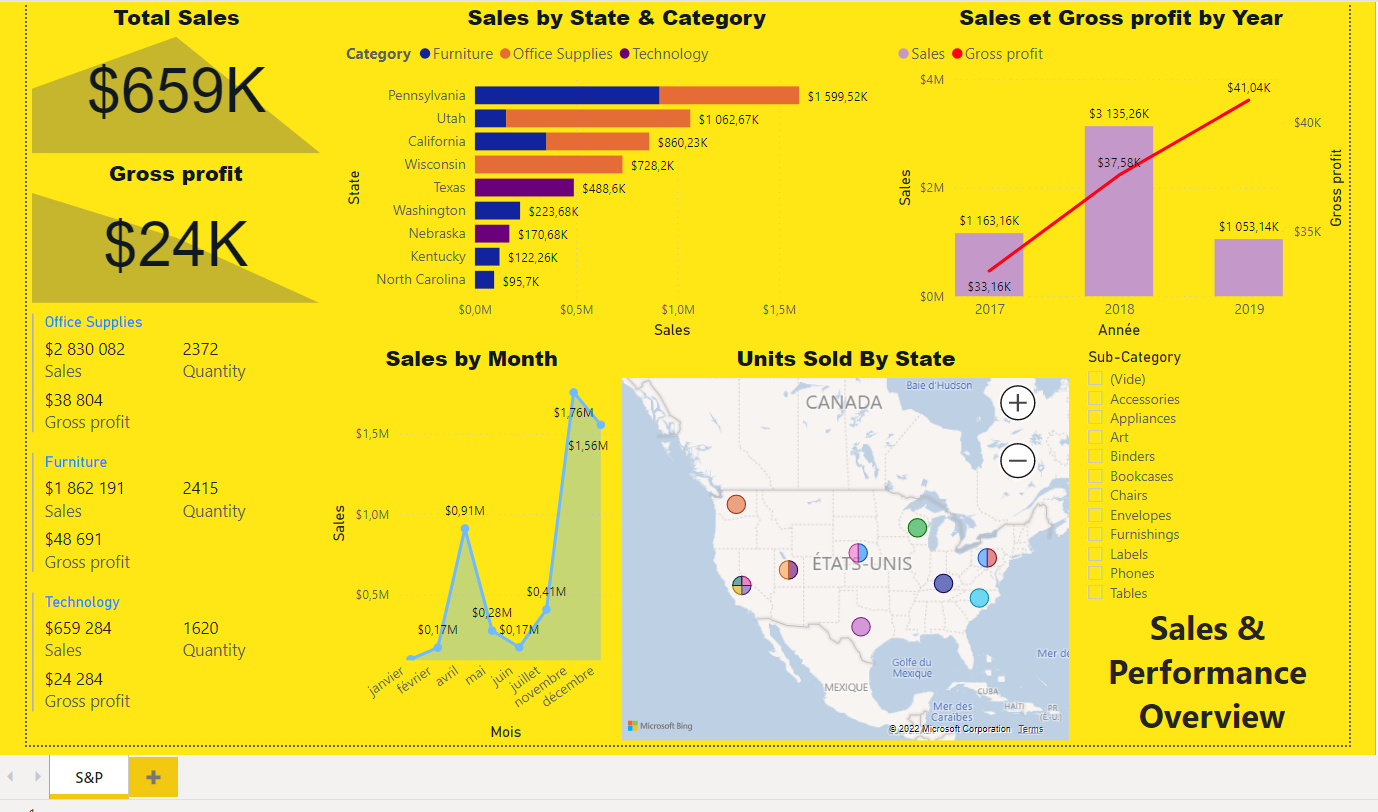

What the dashboard file says about the page in this screenshot:
{"tool":"powerbi","page":{"name":"S&P","canvas":[1280,720],"ordinal":0},"visuals":[{"type":"kpi","title":"Total Sales","fields":{"TrendLine":["product_details.Category"],"Indicator":["Sum(sales_details.Sales)"]},"box":[0,0,289.2,151.3],"z":0},{"type":"kpi","title":"Gross profit","fields":{"TrendLine":["product_details.Category"],"Indicator":["Sum(sales_details.Gross profit)"]},"box":[0,151.3,288,145.2],"z":1},{"type":"barChart","title":"Sales by State & Category","fields":{"Category":["Place_details.State"],"Y":["Sum(sales_details.Sales)"],"Series":["product_details.Category"]},"box":[303.7,0,533.6,330.4],"z":2},{"type":"lineStackedColumnComboChart","title":"Sales et Gross profit by Year","fields":{"Category":["order_details.Order Date.Variation.Hiérarchie de dates.Année"],"Y":["Sum(sales_details.Sales)"],"Y2":["Sum(sales_details.Gross profit)"]},"box":[837.4,0,442.9,330.4],"z":3},{"type":"areaChart","title":"Sales by Month","fields":{"Category":["order_details.Order Date.Variation.Hiérarchie de dates.Mois"],"Y":["Sum(sales_details.Sales)"]},"box":[289.2,330.4,281.9,389.6],"z":4},{"type":"multiRowCard","fields":{"Values":["Sum(sales_details.Sales)","Sum(sales_details.Quantity)","Sum(sales_details.Gross profit)","product_details.Category"]},"box":[0,296.5,289.2,423.5],"z":5},{"type":"map","title":"Units Sold By State","fields":{"Category":["Place_details.State"],"Series":["sales_details.Quantity"]},"box":[571.2,330.4,442.9,389.6],"z":6},{"type":"slicer","fields":{"Values":["product_details.Sub-Category"]},"box":[1014.1,330.4,266.2,261.4],"z":7},{"type":"textbox","box":[1014.1,578.4,266.2,141.6],"z":8}]}

Visuals, with their boxes on the page's 1280x720 design canvas (x1, y1, x2, y2). These are canvas units, not pixel positions in the 1378x812 screenshot, which may show the page scaled, cropped or inside an application window:
"Total Sales" kpi: 0/0/289/151
"Gross profit" kpi: 0/151/288/296
"Sales by State & Category" barChart: 304/0/837/330
"Sales et Gross profit by Year" lineStackedColumnComboChart: 837/0/1280/330
"Sales by Month" areaChart: 289/330/571/720
multiRowCard - Sum(sales_details.Sales) x Sum(sales_details.Quantity): 0/296/289/720
"Units Sold By State" map: 571/330/1014/720
slicer - product_details.Sub-Category: 1014/330/1280/592
textbox: 1014/578/1280/720
